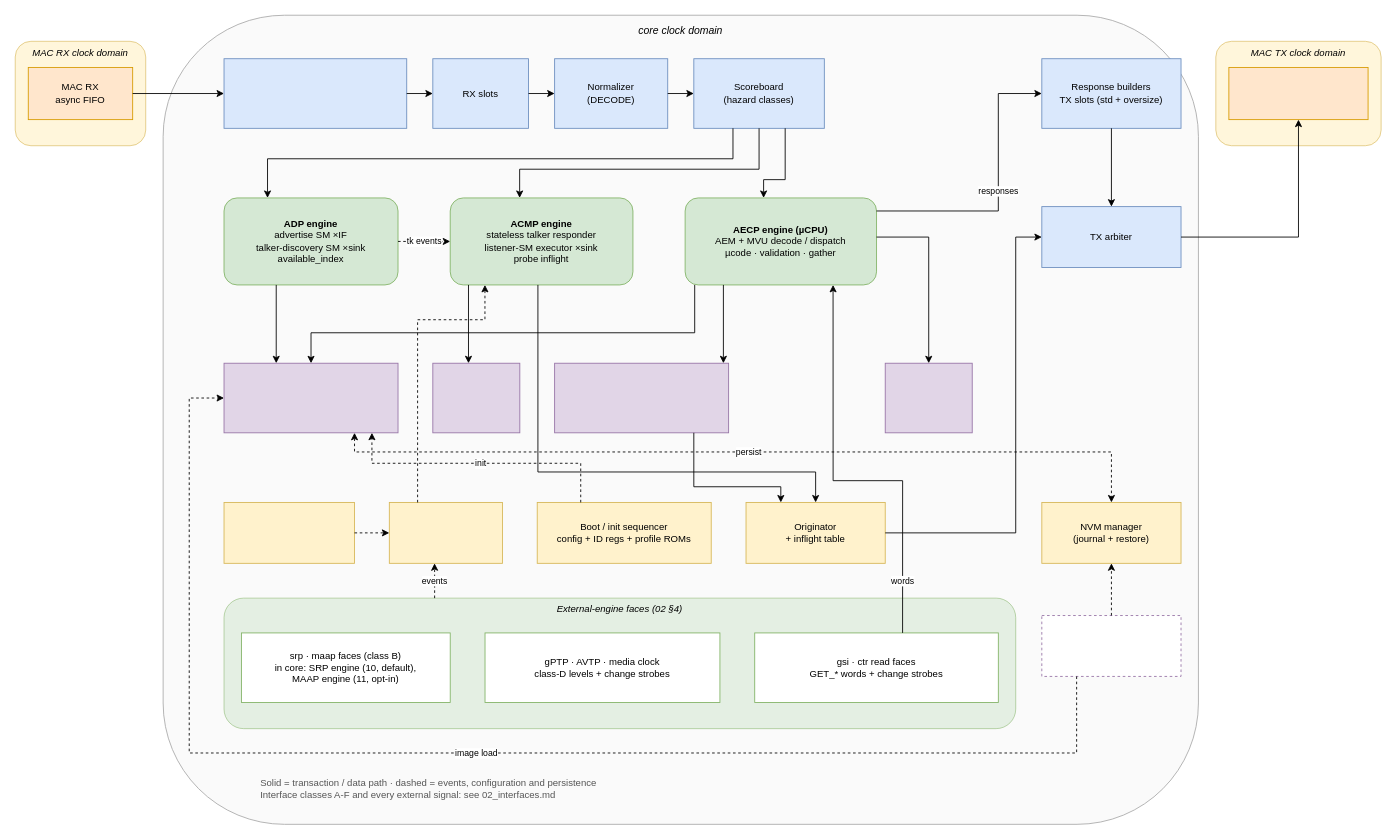
The diagram is 1396 pixels wide and 840 high, and some of its shapes have lost their labels. The shapes that lost their labels are listed below. From the top down, each one's centre as x and y in pixels, then its label:
At point 315,93: "RX filter + parser + validator DA · 0x22F0 · FA/FB/FC · cdl+12".
At point 1298,93: "MAC TX async FIFO".
At point 310,397: "Entity-model store static image + overlay + names".
At point 476,397: "Lock manager".
At point 641,397: "Controller registry + monitor + notification fan-out".
At point 928,397: "Identify handler".
At point 289,532: "Timer service + PRNG".
At point 445,532: "Event router".
At point 1111,645: "Management side-port (bus-agnostic)".
